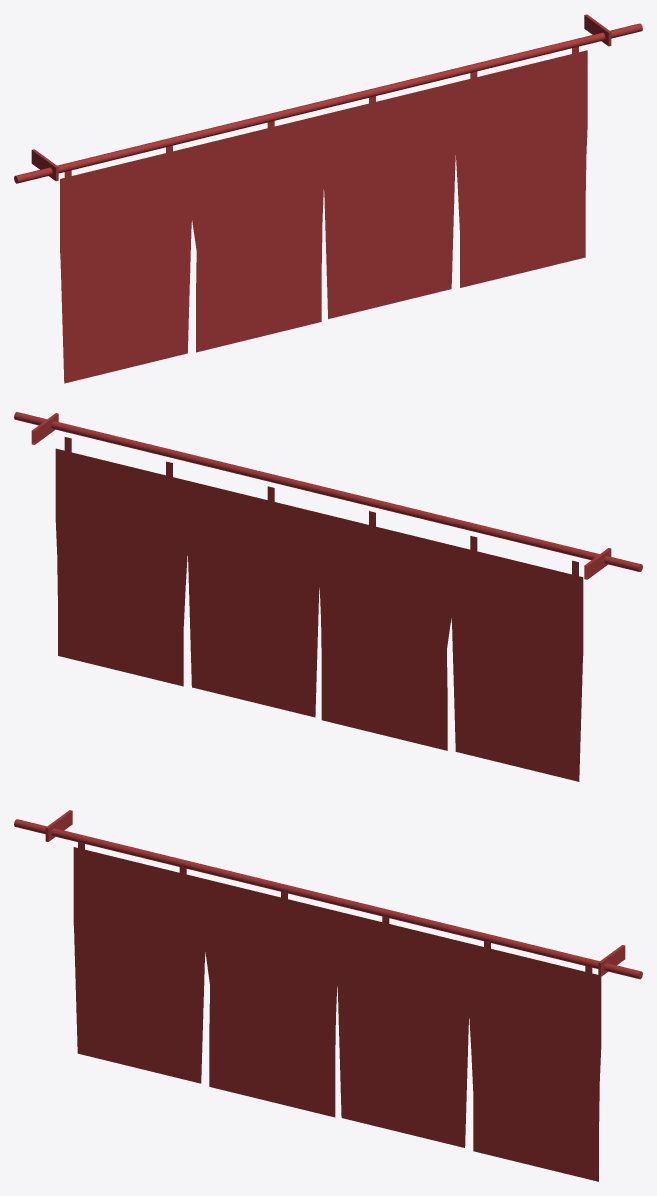
Rendered from SM_storefront_cloth_03.fbx.
The picture shows the model from 3 angles, top to bottom: view 1: azimuth 30°, elevation 25°; view 2: azimuth 150°, elevation 25°; view 3: azimuth 330°, elevation 25°; orthographic projection.
Visible parts, largest first — view 1: Plane008; view 2: Plane008; view 3: Plane008.
Boxes of the visible parts, bbox=[...] form: Plane008: bbox=[14, 14, 642, 383]; Plane008: bbox=[14, 412, 642, 781]; Plane008: bbox=[14, 810, 642, 1181].
Bounding box in the file's own units: 210 × 14.09 × 74.15.
